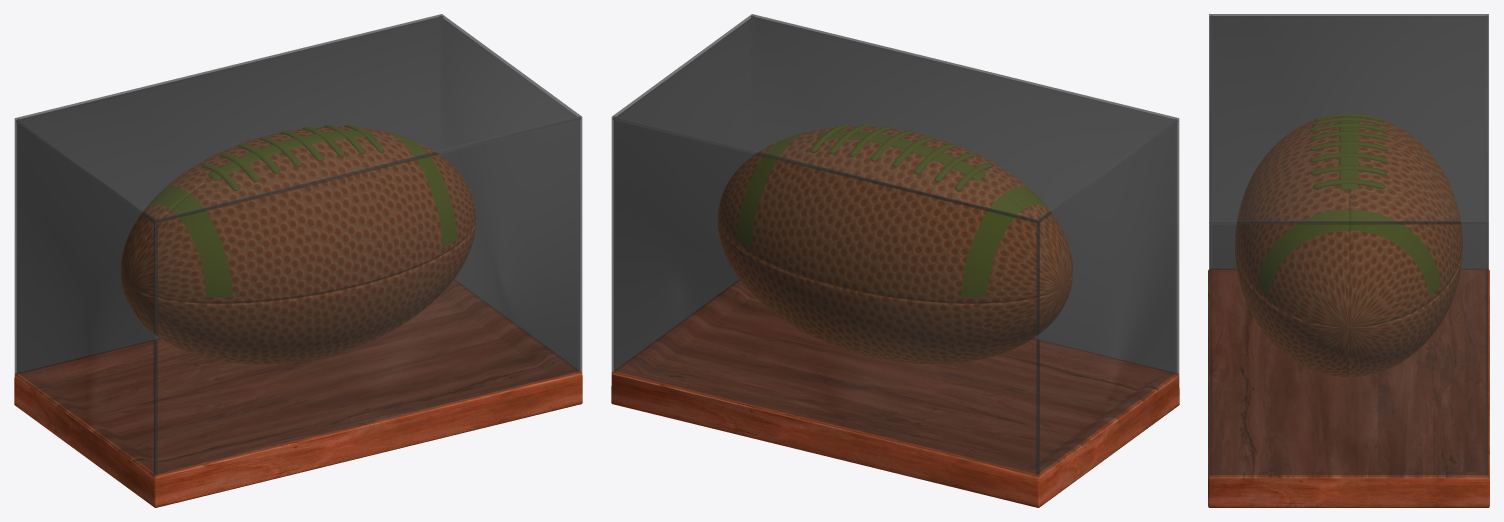
File: football2.0.obj
3 renders of one model, left to right at view 1: azimuth 30°, elevation 25°; view 2: azimuth 150°, elevation 25°; view 3: azimuth 270°, elevation 25°, orthographic.
Parts seen in each view (by area): view 1: Rectangle001, Box001, Object004, Ellipse001, Object003, Object001, Object002; view 2: Rectangle001, Box001, Ellipse001, Object003, Object004, Object001, Object002; view 3: Rectangle001, Box001, Ellipse001, Object004, Object003, Object001, Object002.
Part boxes in pixels (x1=…): Rectangle001: x1=14, y1=14, x2=582, y2=476; Box001: x1=14, y1=279, x2=582, y2=507; Object004: x1=130, y1=136, x2=475, y2=301; Ellipse001: x1=121, y1=127, x2=475, y2=363; Object003: x1=146, y1=133, x2=457, y2=296; Object001: x1=201, y1=125, x2=383, y2=190; Object002: x1=208, y1=131, x2=376, y2=180; Rectangle001: x1=611, y1=14, x2=1179, y2=476; Box001: x1=611, y1=279, x2=1179, y2=507; Ellipse001: x1=718, y1=134, x2=1072, y2=363; Object003: x1=736, y1=133, x2=1047, y2=296; Object004: x1=772, y1=127, x2=1072, y2=285; Object001: x1=810, y1=125, x2=992, y2=190; Object002: x1=817, y1=131, x2=985, y2=180; Rectangle001: x1=1209, y1=14, x2=1488, y2=477; Box001: x1=1208, y1=269, x2=1489, y2=507; Ellipse001: x1=1235, y1=117, x2=1462, y2=376; Object004: x1=1235, y1=117, x2=1348, y2=326; Object003: x1=1257, y1=210, x2=1440, y2=295; Object001: x1=1310, y1=114, x2=1387, y2=188; Object002: x1=1339, y1=116, x2=1358, y2=189.
Size of the model in its own units: 14 by 8.97 by 8.
4 materials, 2 textured.
